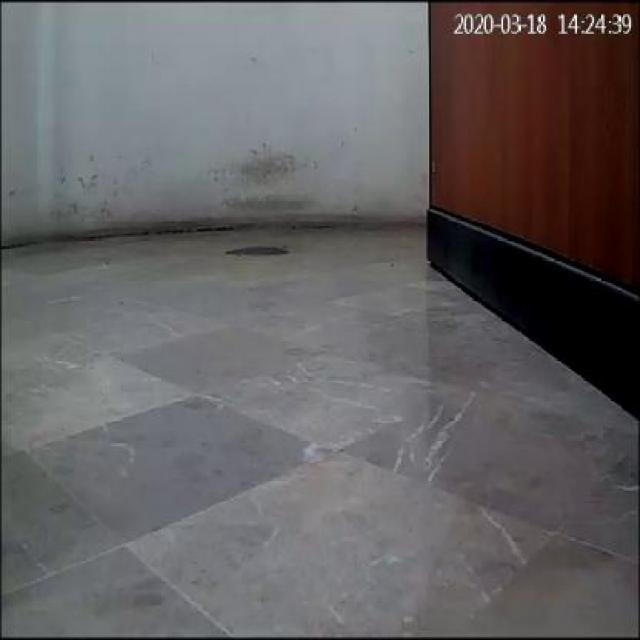spill: (226, 241, 289, 261)
